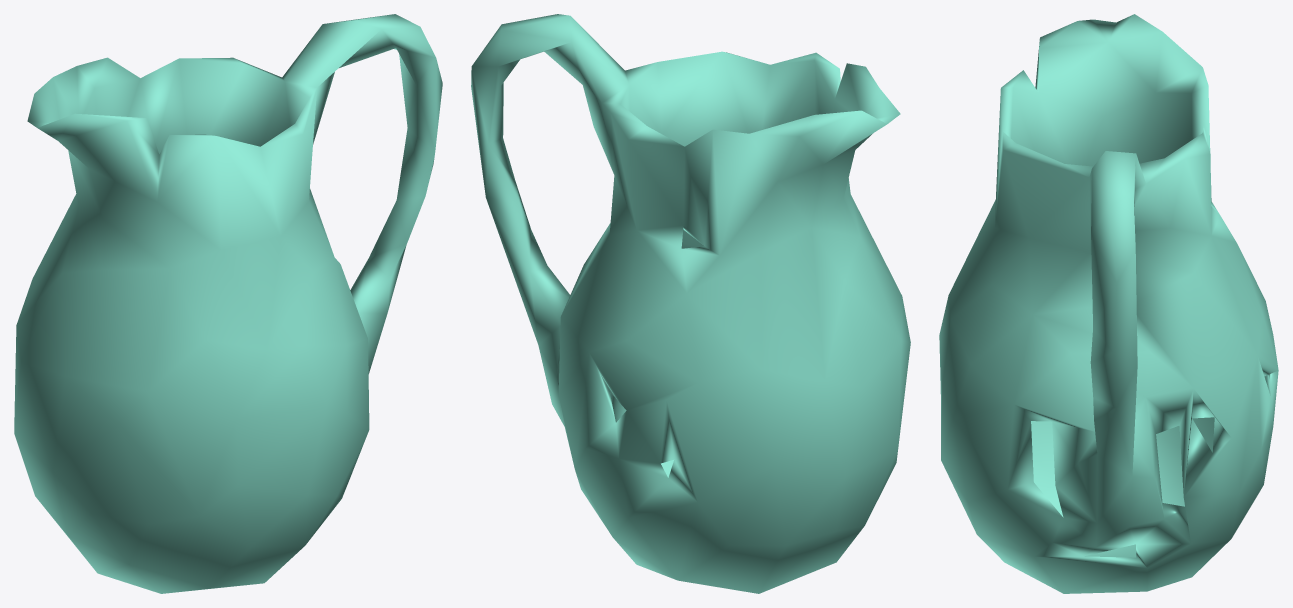
3 renders of one model, left to right at view 1: azimuth 30°, elevation 25°; view 2: azimuth 150°, elevation 25°; view 3: azimuth 270°, elevation 25°, orthographic. The views are drawn at different scales.
Parts seen in each view (by area): view 1: 곡선 손잡이 피처; view 2: 곡선 손잡이 피처; view 3: 곡선 손잡이 피처.
Boxes of the visible parts, box(x1,y1,x2,y2) form: 곡선 손잡이 피처: box(14, 14, 442, 593); 곡선 손잡이 피처: box(471, 14, 910, 593); 곡선 손잡이 피처: box(939, 14, 1278, 593).
Bounding box in the file's own units: 33.96 × 38.21 × 24.42.
